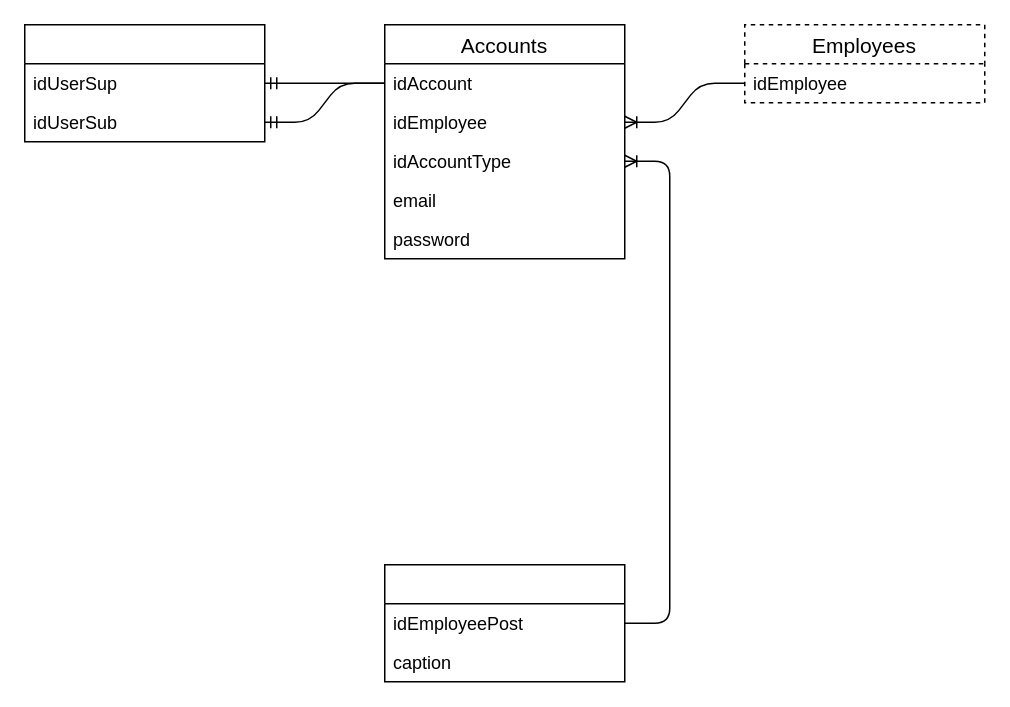
Some shapes in this 1010 by 707 pixel diagram are drawn without their labels. Each missing label, with the box of its shape:
AccountHierarchy: (23, 23, 265, 142)
AccountType: (383, 563, 625, 682)
